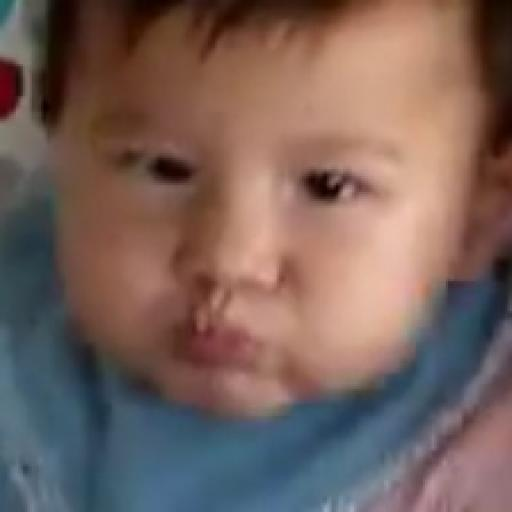Autism: (59, 2, 453, 446)
